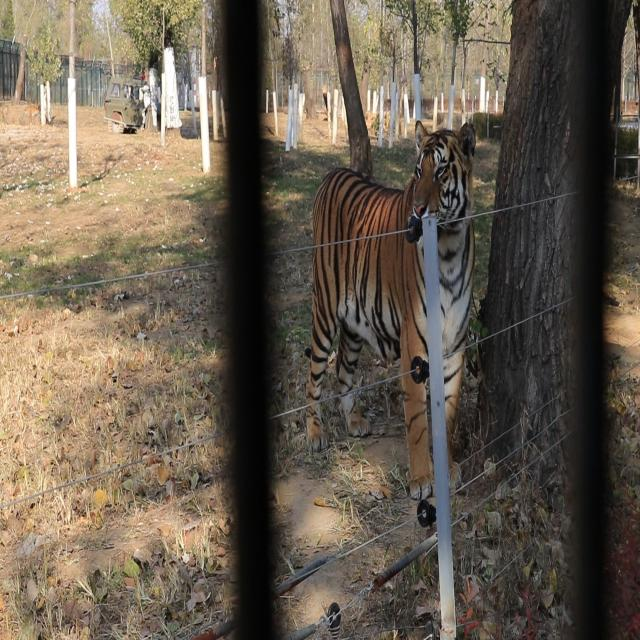Tiger: (296, 100, 488, 507)
